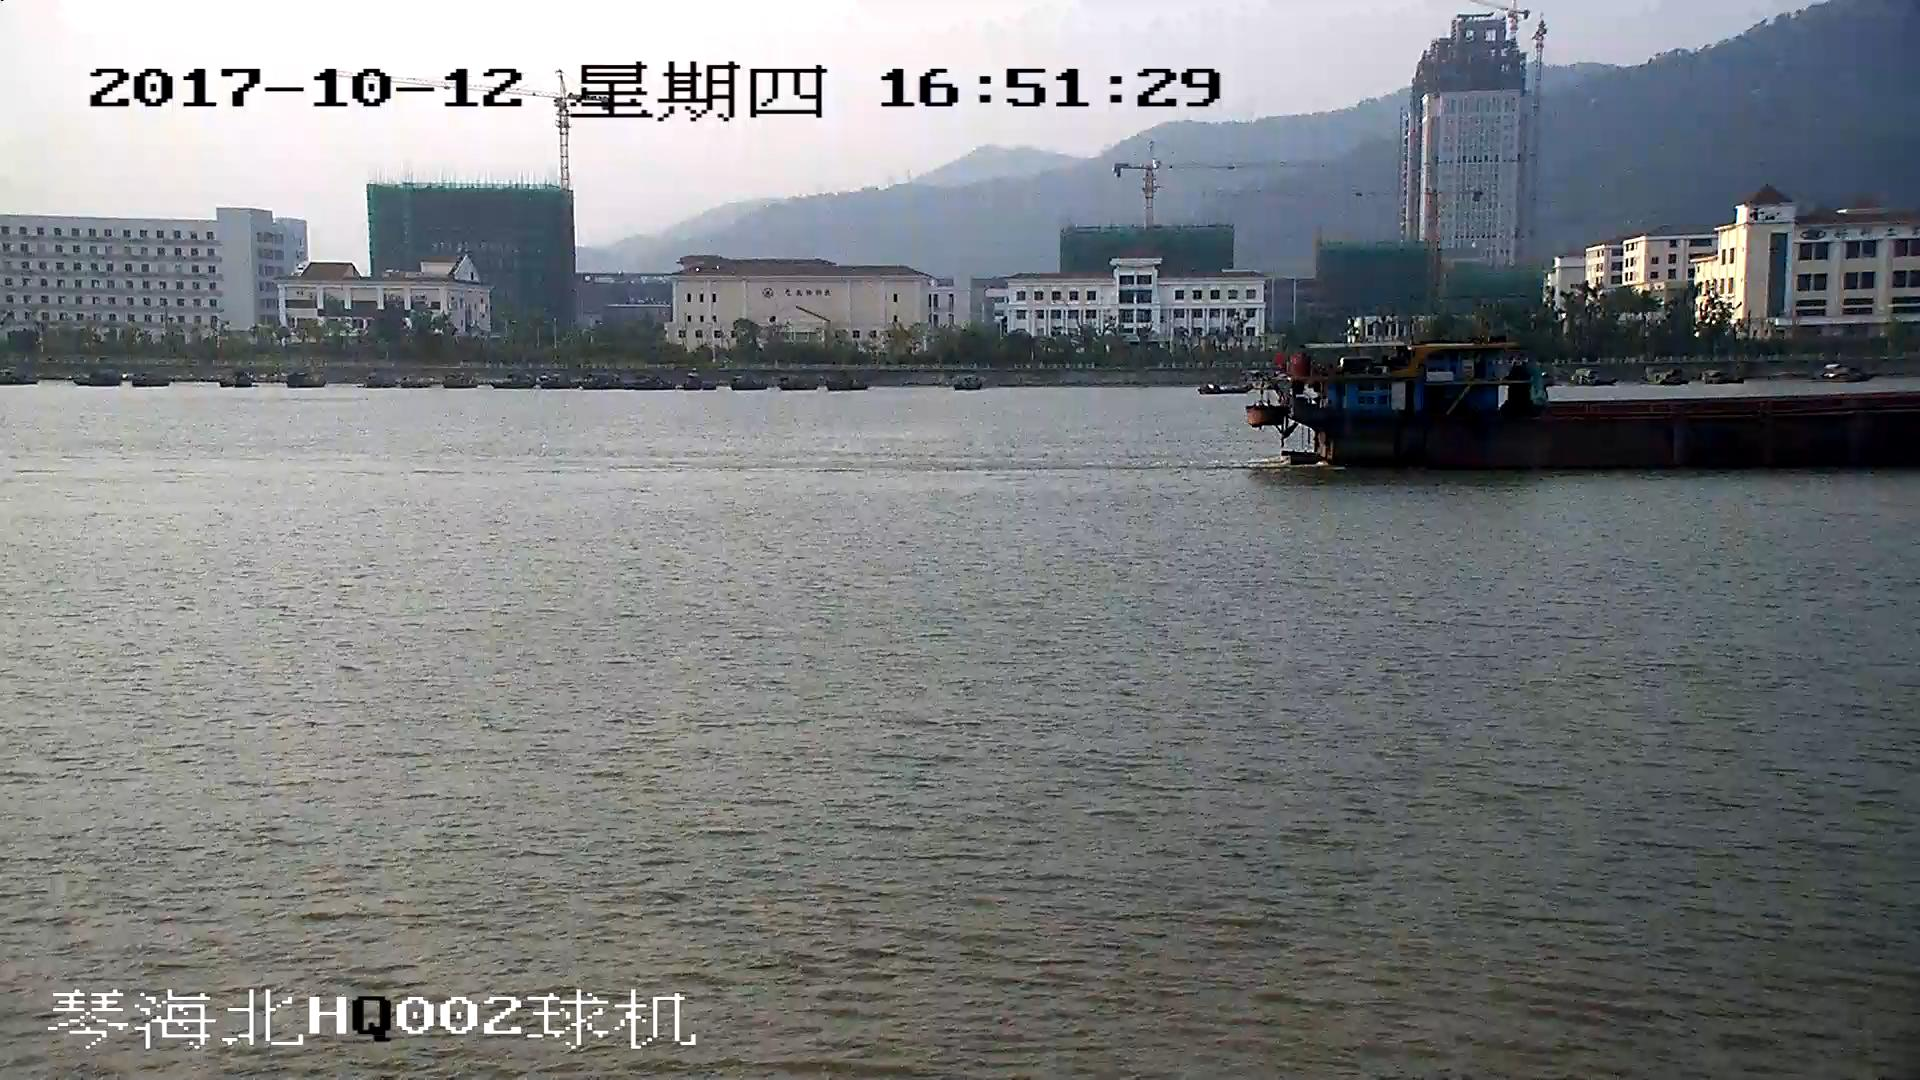bulk cargo carrier: (1249, 344, 1920, 468)
